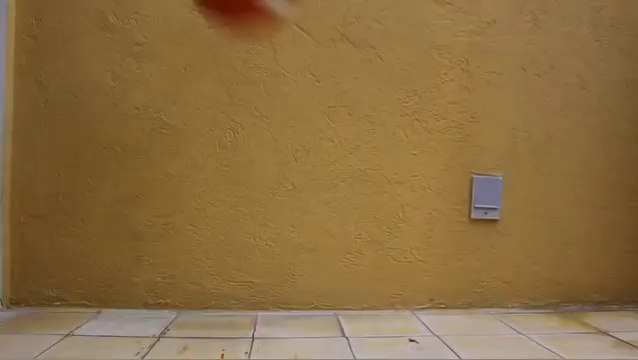ball: (192, 1, 298, 42)
